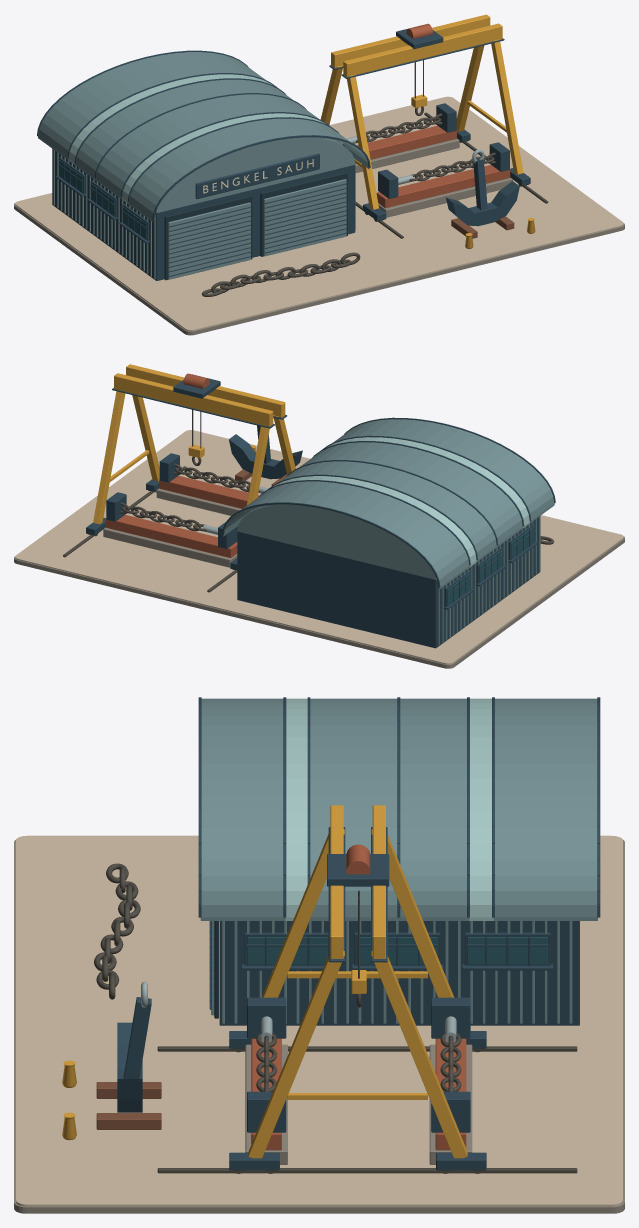
3 views of the same model, one above another, from view 1: azimuth 30°, elevation 25°; view 2: azimuth 150°, elevation 25°; view 3: azimuth 270°, elevation 25° (orthographic). The views are drawn at different scales.
Parts seen in each view (by area): view 1: Chain Apron, Segmental Barrel Roof, Inspection Shed, Yellow Portal Hoist, Hydraulic Proof Bed, Stockless Anchor; view 2: Chain Apron, Segmental Barrel Roof, Inspection Shed, Yellow Portal Hoist, Hydraulic Proof Bed, Stockless Anchor; view 3: Chain Apron, Segmental Barrel Roof, Inspection Shed, Yellow Portal Hoist, Hydraulic Proof Bed, Stockless Anchor.
Part boxes in pixels (box(x1,y1,x2,y2)): Chain Apron: box(14, 96, 624, 335); Segmental Barrel Roof: box(37, 50, 370, 221); Inspection Shed: box(52, 138, 355, 280); Yellow Portal Hoist: box(320, 14, 548, 238); Hydraulic Proof Bed: box(346, 103, 512, 217); Stockless Anchor: box(445, 149, 519, 238); Chain Apron: box(14, 430, 624, 668); Segmental Barrel Roof: box(222, 417, 555, 589); Inspection Shed: box(237, 505, 540, 648); Yellow Portal Hoist: box(63, 364, 295, 592); Hydraulic Proof Bed: box(103, 453, 268, 567); Stockless Anchor: box(229, 425, 302, 485); Chain Apron: box(14, 835, 624, 1213); Segmental Barrel Roof: box(198, 697, 600, 920); Inspection Shed: box(209, 921, 579, 1025); Yellow Portal Hoist: box(157, 805, 577, 1173); Hydraulic Proof Bed: box(245, 997, 472, 1164); Stockless Anchor: box(96, 981, 161, 1129).
Bounding box in the file's own units: 28.4 × 9.65 × 19.8.
